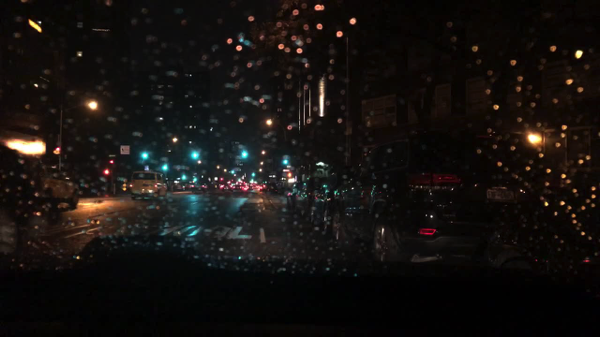car: (322, 133, 546, 272), (309, 178, 351, 232), (39, 171, 80, 209), (130, 170, 169, 201), (294, 176, 319, 219), (285, 182, 302, 209), (172, 177, 189, 191), (191, 180, 208, 194), (266, 182, 278, 195), (240, 183, 250, 193), (221, 183, 232, 192), (258, 182, 268, 191)
traffic light: (241, 149, 247, 159), (103, 169, 110, 177), (107, 159, 114, 166), (54, 146, 60, 154), (285, 172, 292, 178), (141, 153, 147, 160), (250, 172, 255, 179)
traffic sign: (120, 145, 130, 155), (281, 168, 291, 172)
